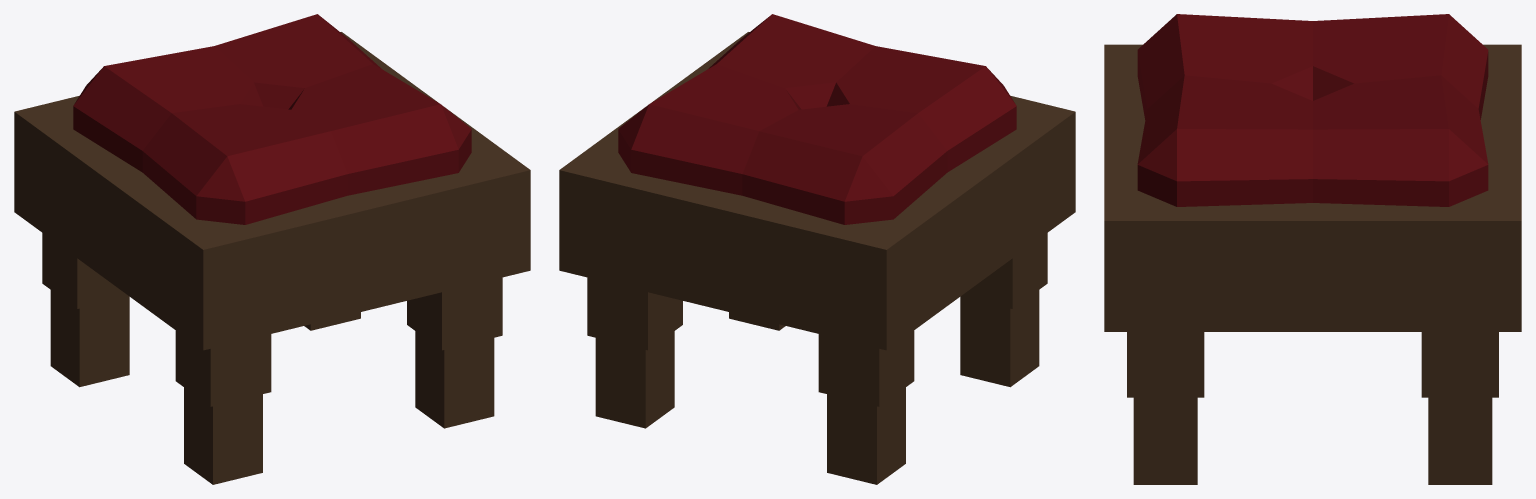
The model's file is key_ottoman.fbx.
The picture shows the model from 3 angles, left to right: view 1: azimuth 30°, elevation 25°; view 2: azimuth 150°, elevation 25°; view 3: azimuth 270°, elevation 25°; orthographic projection. The views are drawn at different scales.
Parts seen in each view (by area): view 1: key_ottoman; view 2: key_ottoman; view 3: key_ottoman.
Boxes of the visible parts, x1=… form: key_ottoman: x1=14, y1=14, x2=530, y2=484; key_ottoman: x1=559, y1=14, x2=1075, y2=484; key_ottoman: x1=1104, y1=14, x2=1521, y2=484.
Size of the model in its own units: 2.83 by 2.53 by 2.83.
